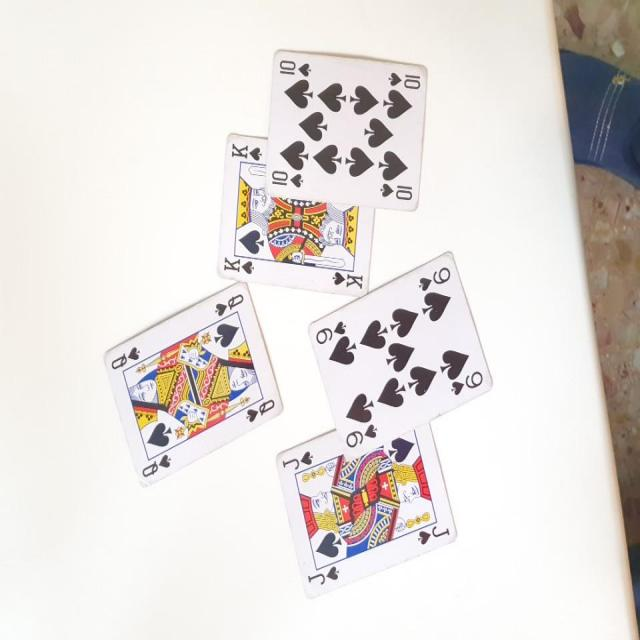10 Spades: (261, 47, 432, 213)
9 Spades: (304, 236, 498, 460)
J Spades: (270, 417, 463, 601)
K Spades: (215, 131, 382, 296)
Q Spades: (102, 280, 283, 485)
